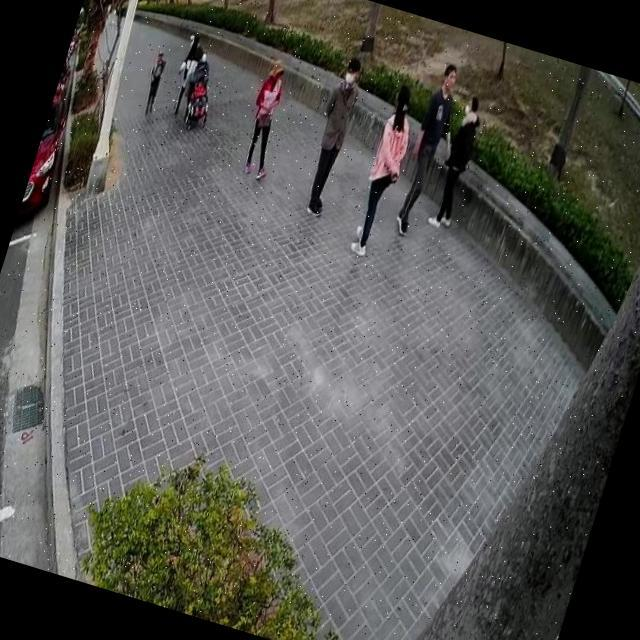person: (386, 54, 479, 245), (344, 79, 428, 264), (291, 48, 372, 225), (422, 87, 494, 234), (233, 52, 304, 184), (163, 26, 216, 124), (136, 44, 173, 120)
